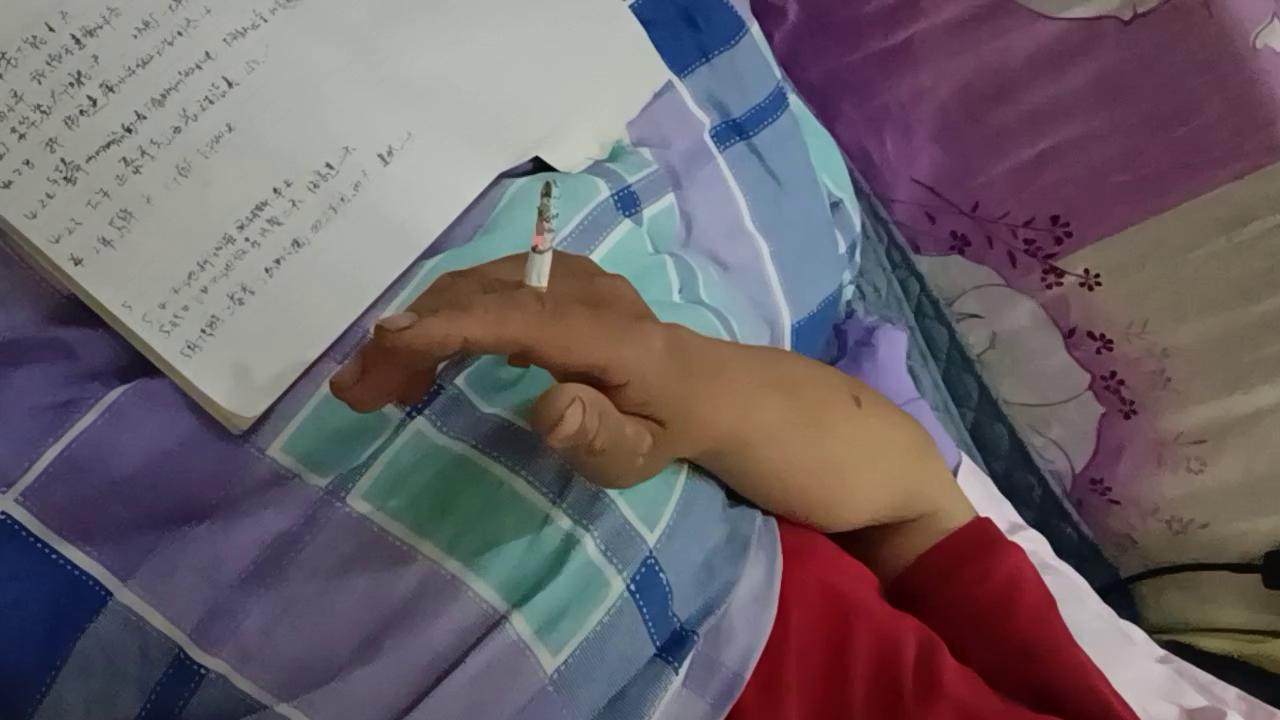smoke: (506, 177, 563, 371)
